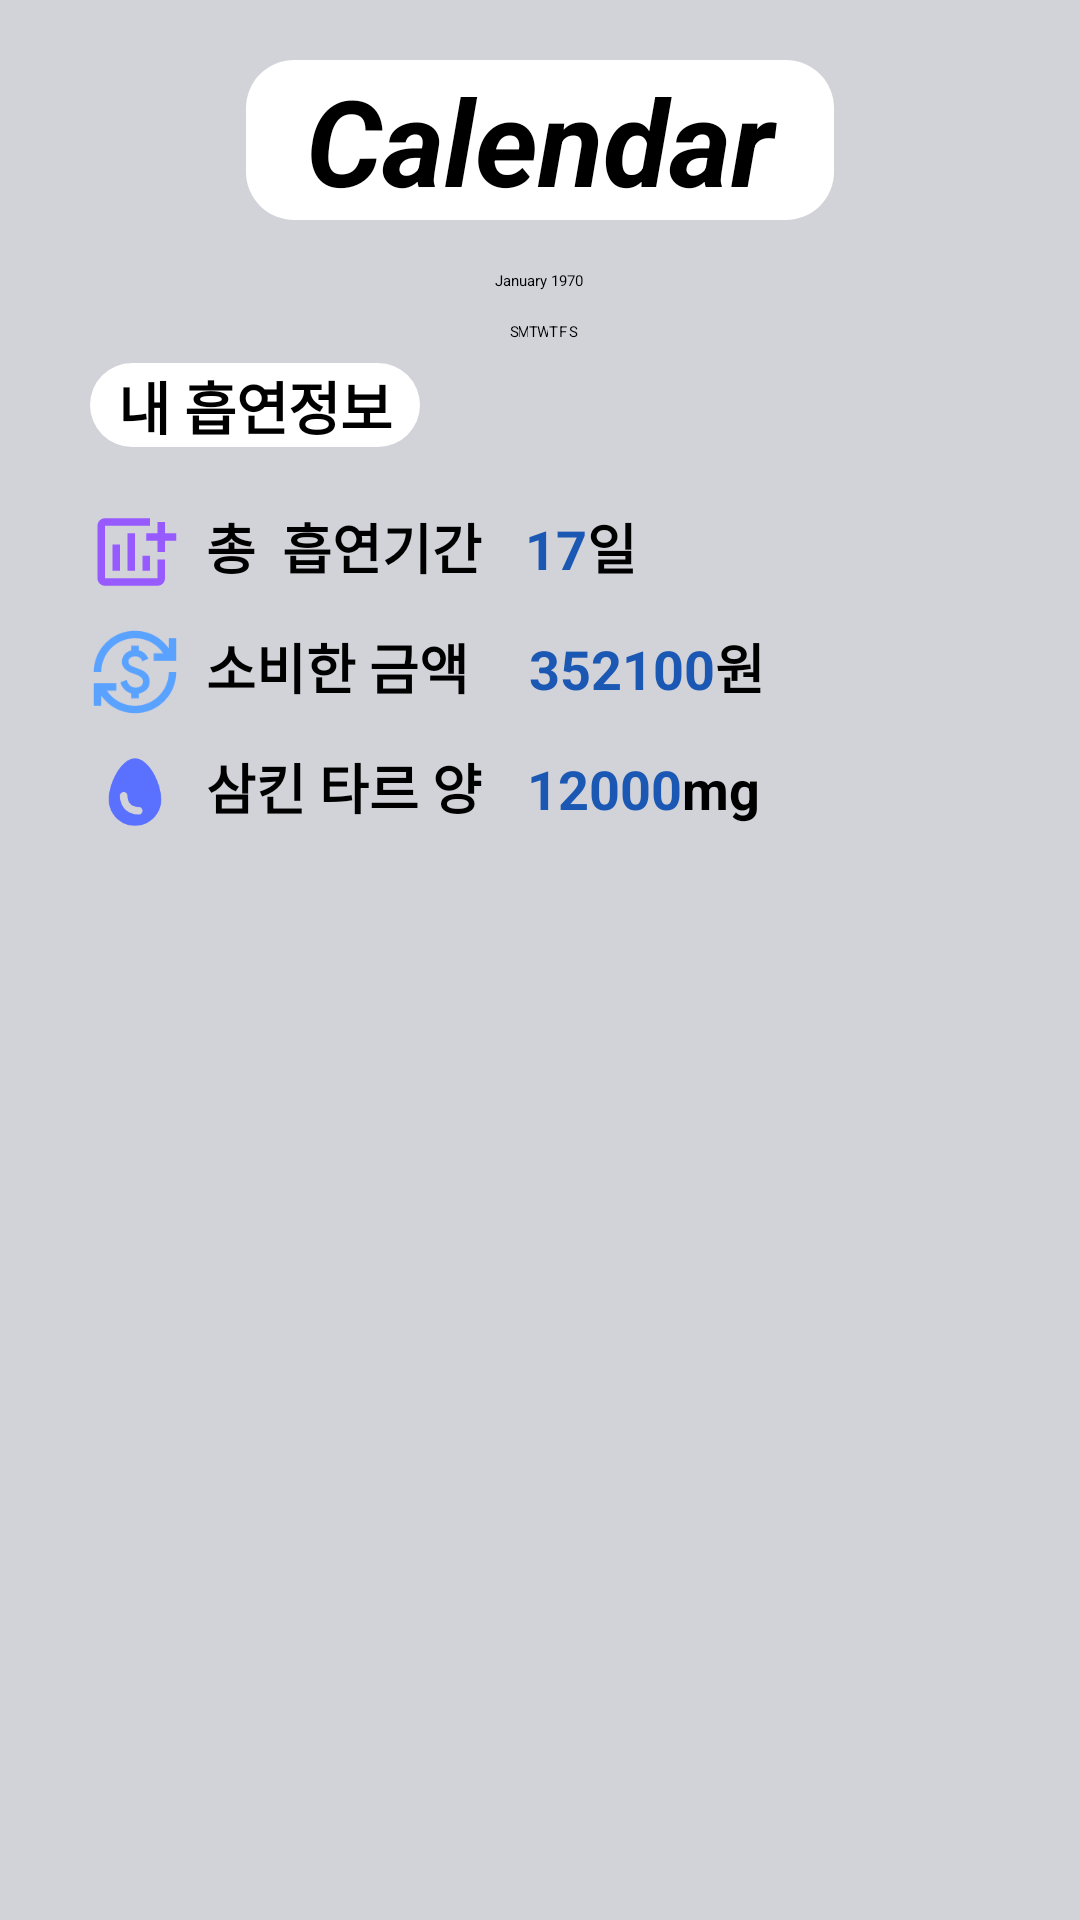

Named icons in this screenshot (1080px x 1920px) and their centers, (x,y):
price: (135,672)
